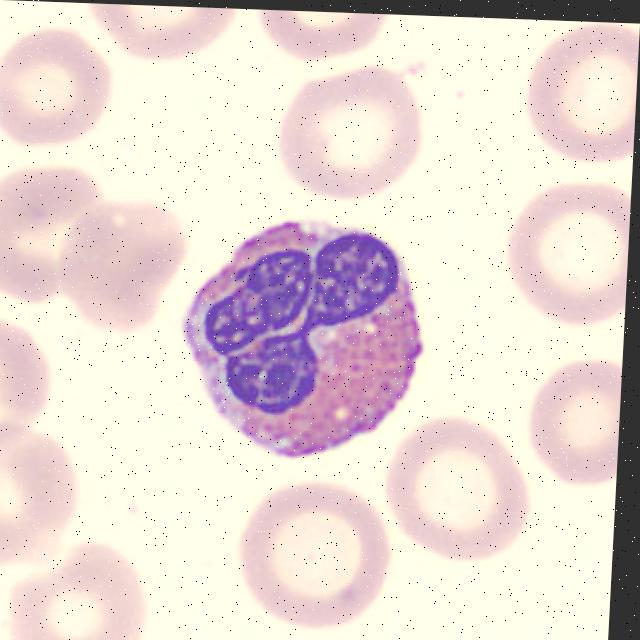eosinophil: (167, 214, 435, 474)
rbc: (266, 56, 448, 218), (235, 480, 399, 630), (43, 196, 193, 348), (495, 167, 632, 333), (507, 19, 640, 176), (0, 524, 170, 640), (385, 412, 519, 559), (0, 161, 109, 313), (0, 22, 111, 163), (525, 344, 623, 497), (0, 417, 87, 574), (59, 3, 242, 77), (228, 9, 395, 88), (0, 320, 55, 467)
